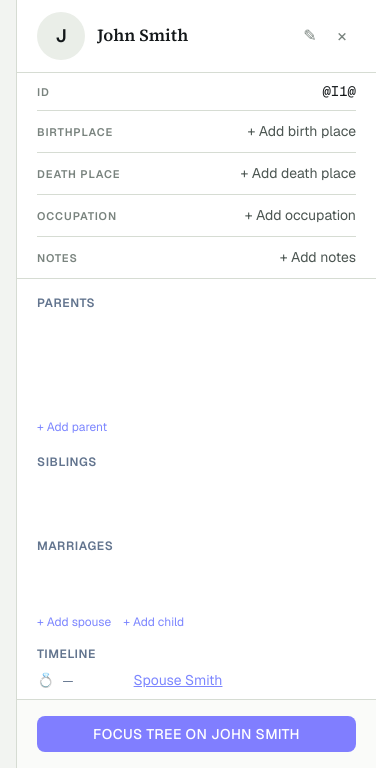
PersonDrawer › Facts — empty values render ghost buttons, never a dash › signed-in: clicking a ghost button opens edit mode with that field expanded
What coordinates should you click on to do the following:
click the button with test id "person-drawer-fact-birthplace-add"
I would click on:
 (302, 132)
Its box is [239,119,364,144].
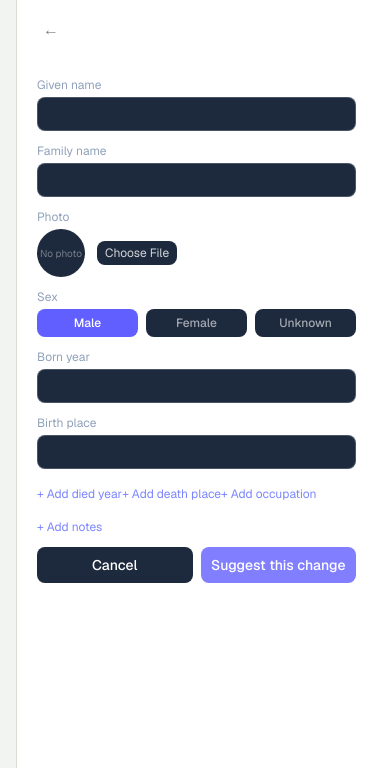
Check: the element with test id "person-drawer-edit-form" is shown
Check: the field with id "edit-birth-place" is empty, box [37,435,356,469]
